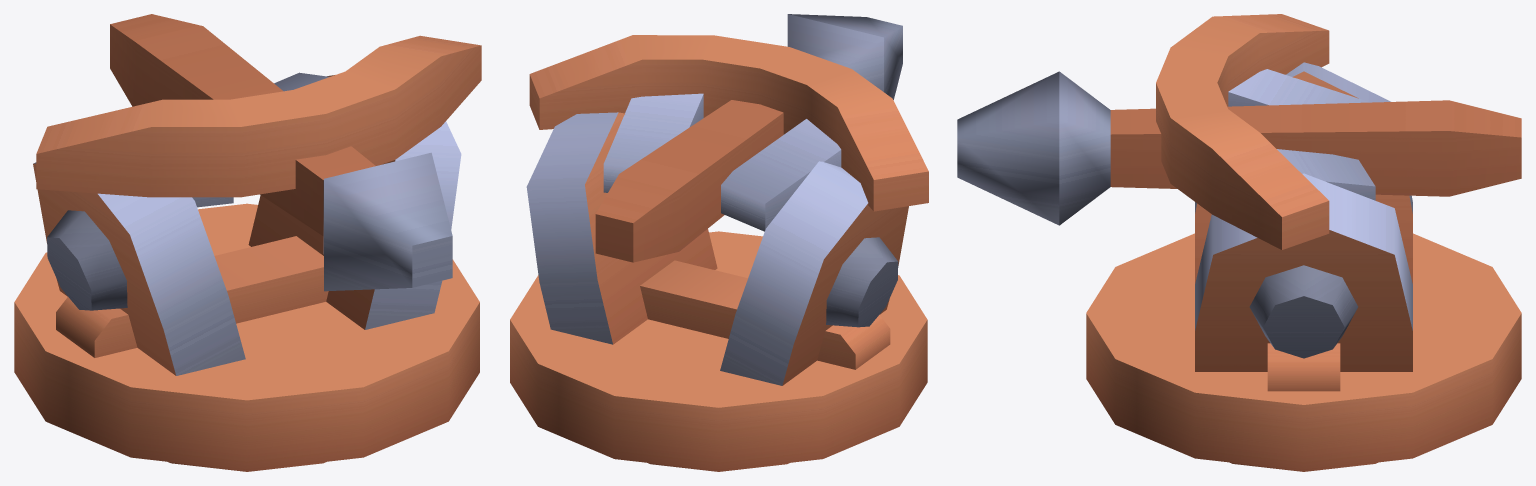
The model's file is p-tower-weapon-ballista.glb.
The picture shows the model from 3 angles, left to right: view 1: azimuth 30°, elevation 25°; view 2: azimuth 150°, elevation 25°; view 3: azimuth 270°, elevation 25°; orthographic projection. The views are drawn at different scales.
Visible parts, largest first — view 1: weapon-ballista, arrow; view 2: weapon-ballista, arrow; view 3: weapon-ballista, arrow.
Boxes of the visible parts, bbox=[...] form: weapon-ballista: bbox=[14, 75, 479, 471]; arrow: bbox=[36, 14, 481, 291]; weapon-ballista: bbox=[510, 112, 927, 471]; arrow: bbox=[529, 14, 928, 262]; weapon-ballista: bbox=[1086, 62, 1521, 471]; arrow: bbox=[957, 14, 1521, 249].
Bounding box in the file's own units: 0.6626 × 0.5 × 0.7776.
1 material, 1 textured.
